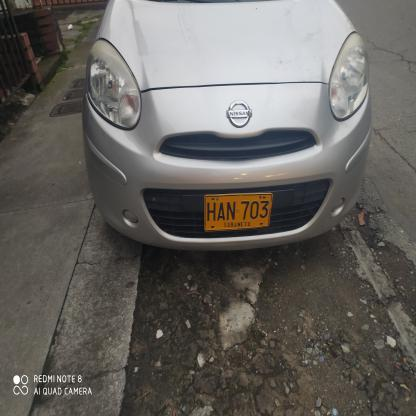placa: (202, 192, 274, 236)
